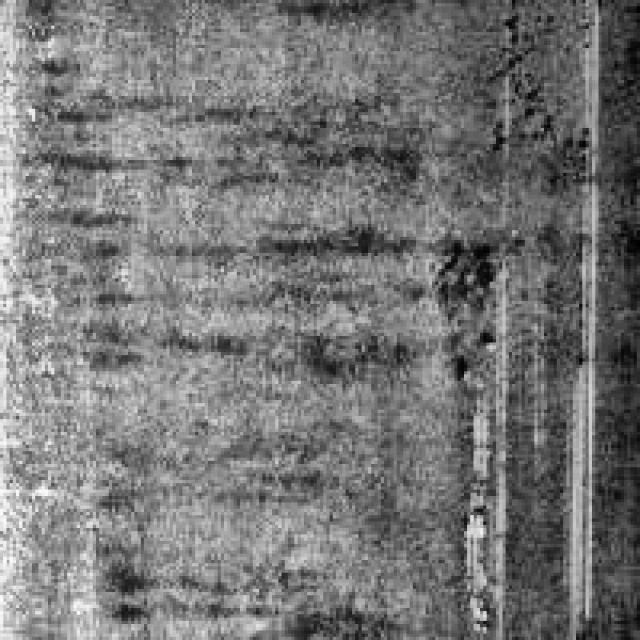Inclusion: (554, 205, 598, 624), (454, 391, 509, 624)
